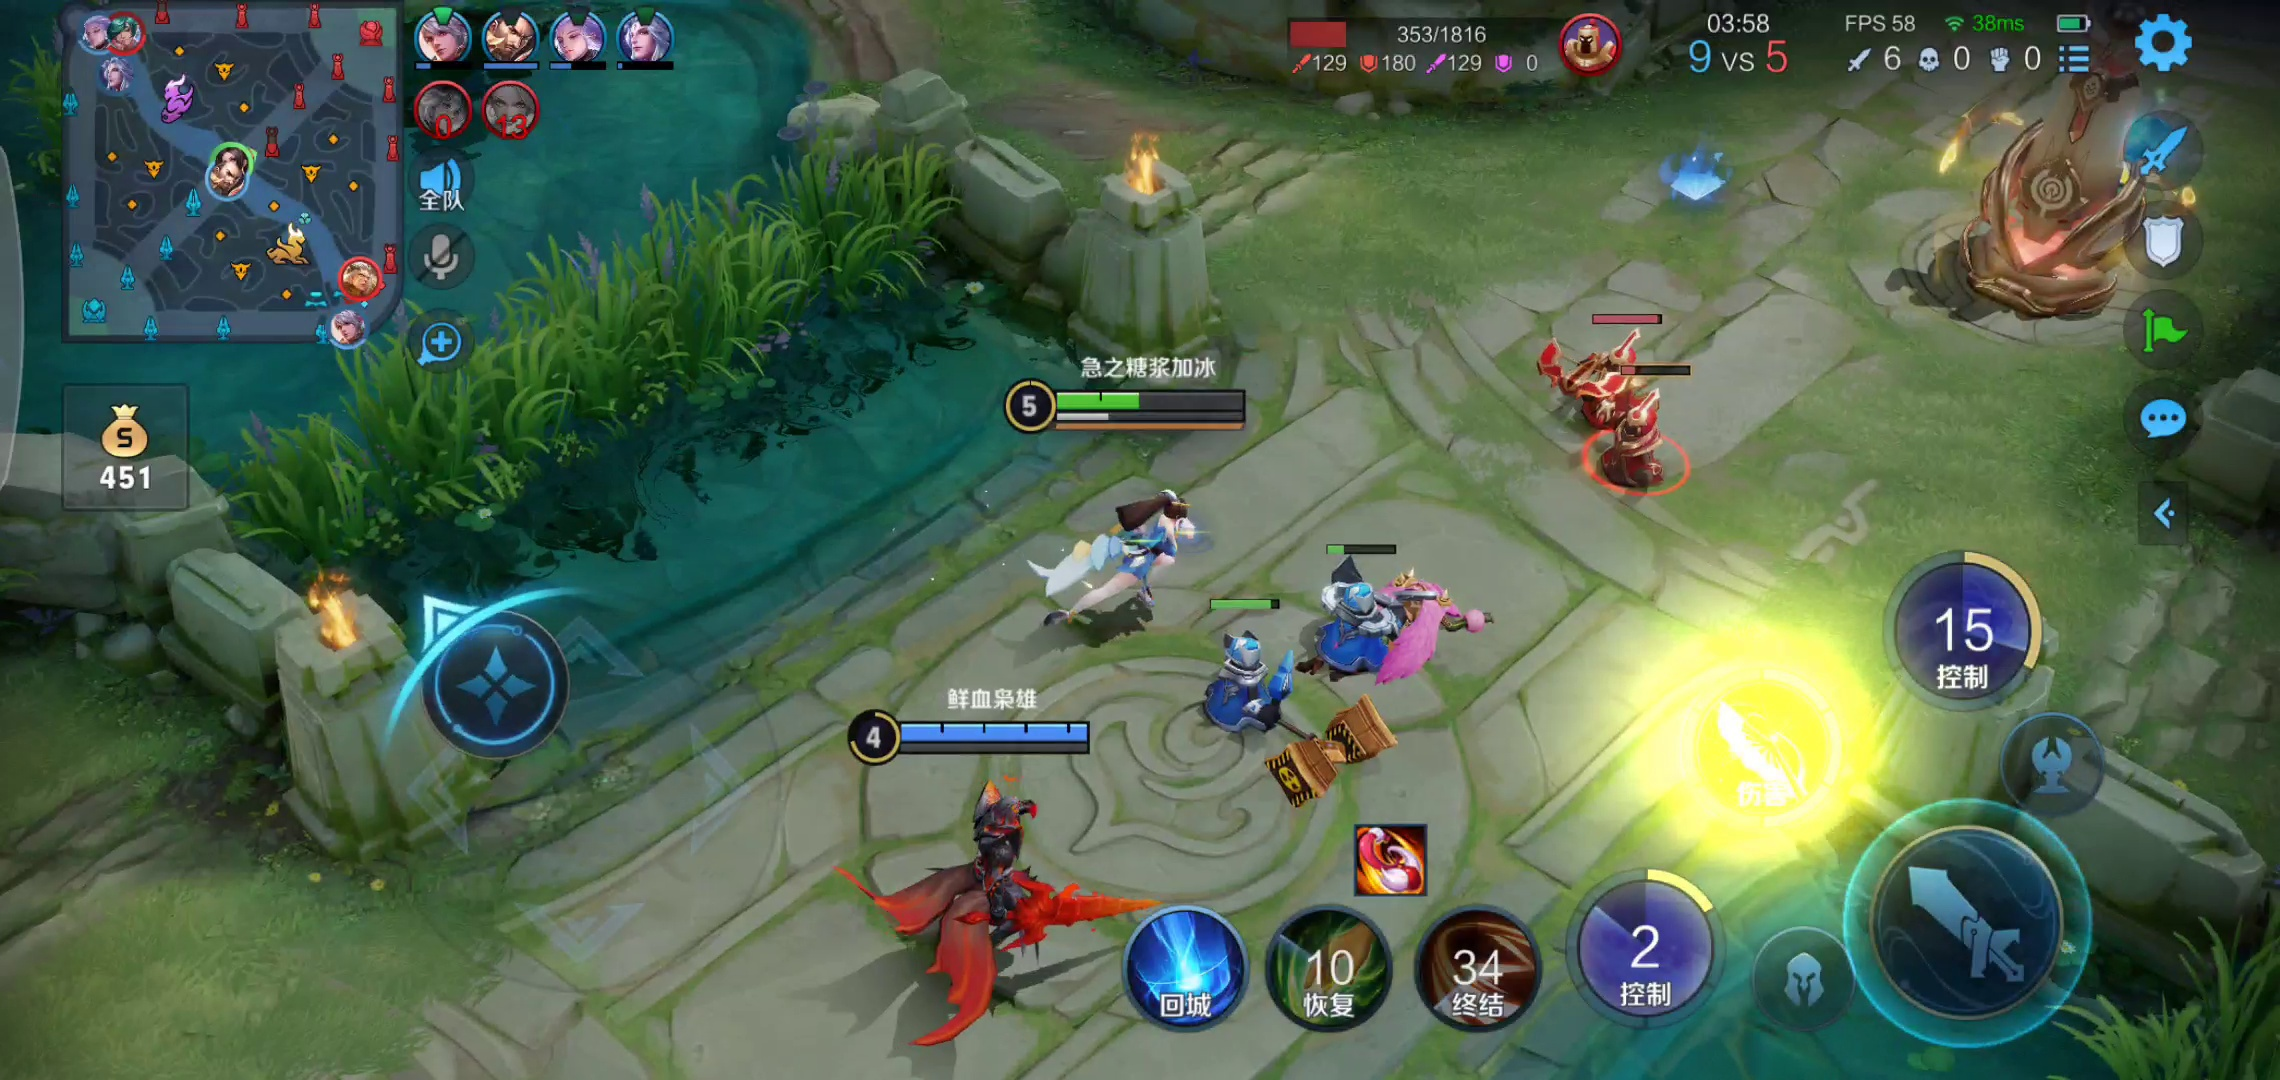grass: (190, 163, 968, 560), (2108, 904, 2270, 1080)
hero: (819, 772, 1139, 1033), (1022, 471, 1207, 632)
soldier: (1591, 401, 1701, 522), (1319, 563, 1403, 690), (1522, 334, 1647, 416), (1210, 626, 1294, 740)
tower: (1879, 20, 2215, 321)
